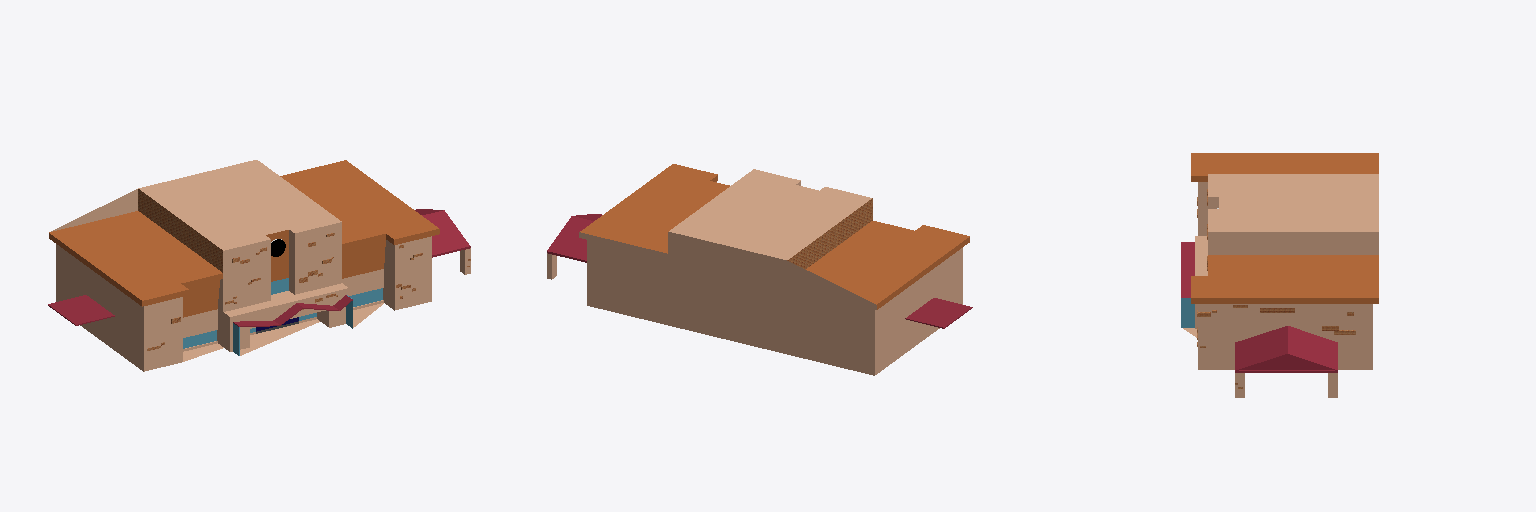
3 views of the same model, side by side, from view 1: azimuth 30°, elevation 25°; view 2: azimuth 150°, elevation 25°; view 3: azimuth 270°, elevation 25° (orthographic).
Visible parts, largest first — view 1: Mesh1Model; view 2: Mesh1Model; view 3: Mesh1Model.
Boxes of the visible parts, x1=… form: Mesh1Model: x1=48, y1=160, x2=470, y2=371; Mesh1Model: x1=547, y1=164, x2=972, y2=375; Mesh1Model: x1=1181, y1=153, x2=1378, y2=397.
Bounding box in the file's own units: 9.58 × 2.3 × 4.25.
Materials: 9 (7 with a texture image).